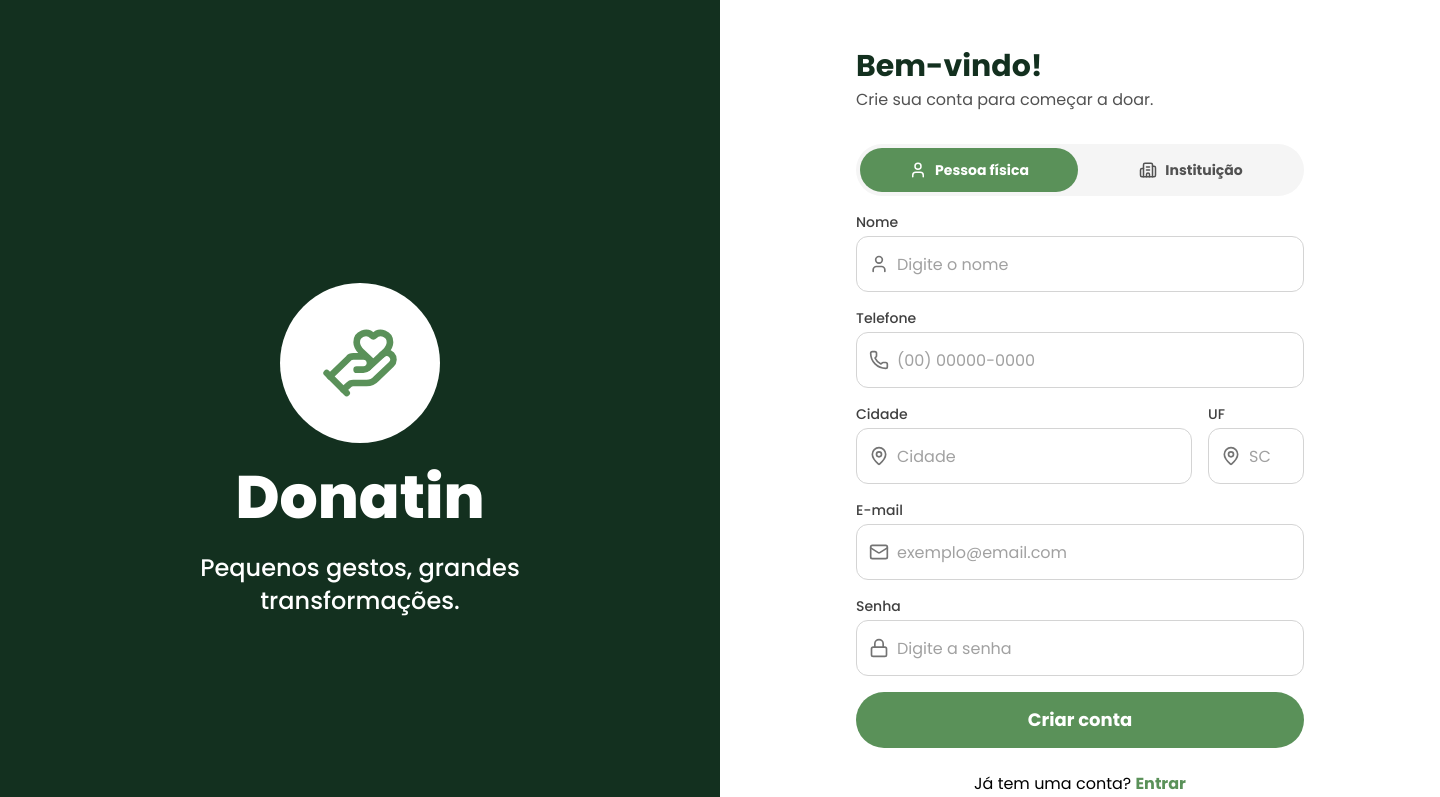
Test: RegisterPage › senha sem maiúscula ou caractere especial é recusada
Type "  Maria Souza " into the field labelled "Nome" at (1094, 264), box [897,237,1291,291]
Type "47999990000" into the field labelled "Telefone" at (1094, 360), box [897,333,1291,387]
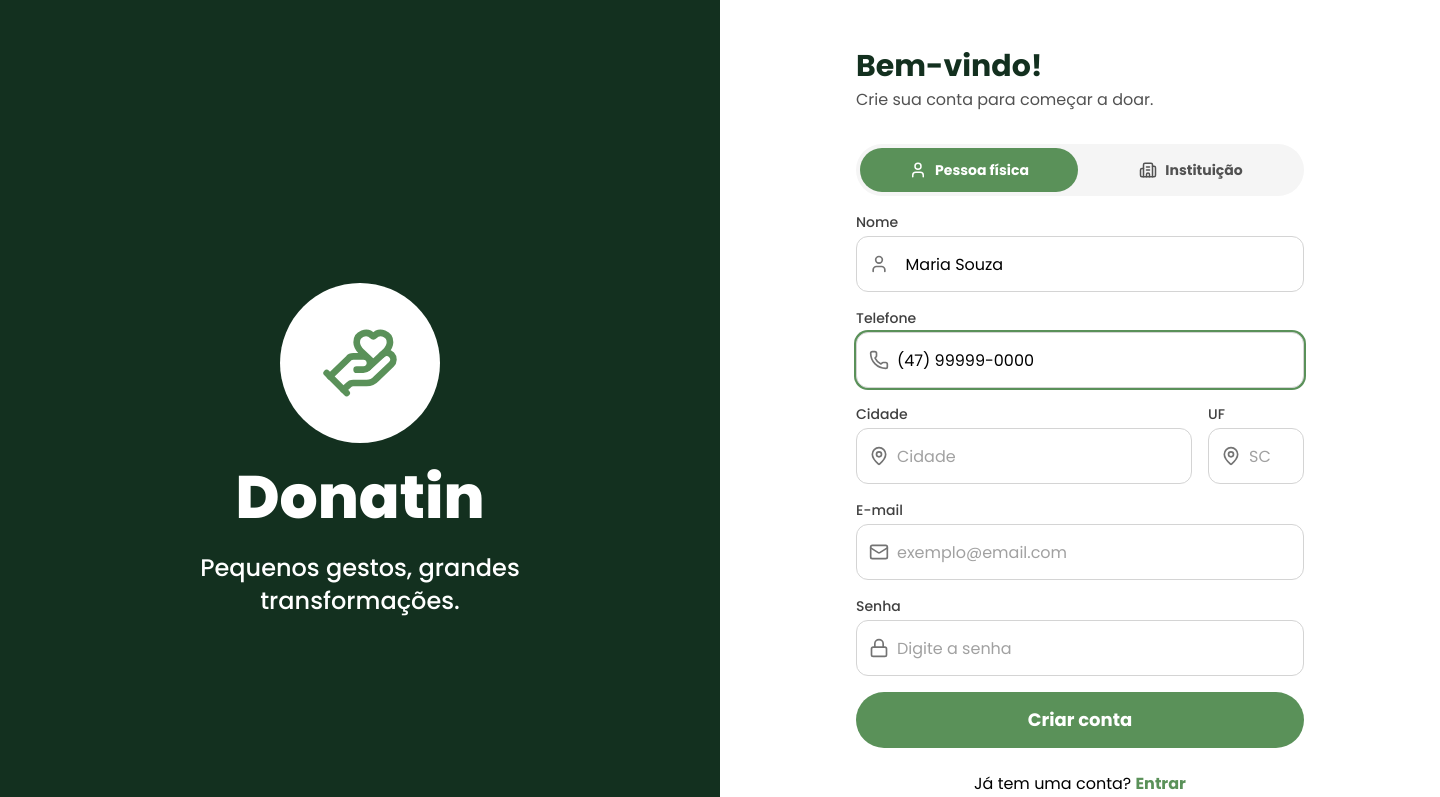
Type "Joinville" into the field labelled "Cidade" at (1038, 456), box [897,429,1179,483]
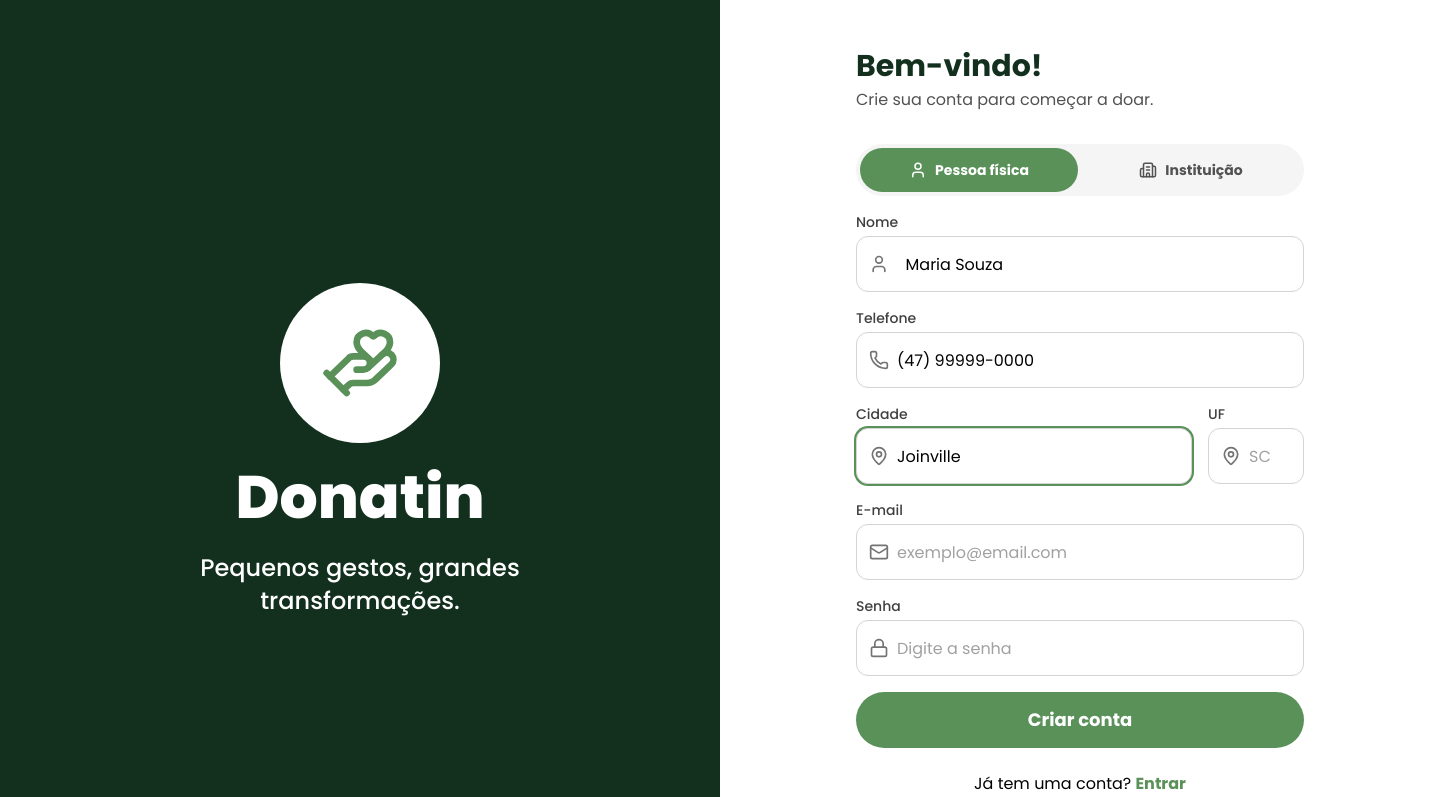
Type "sc" into the field labelled "UF" at (1270, 456), box [1249,429,1291,483]
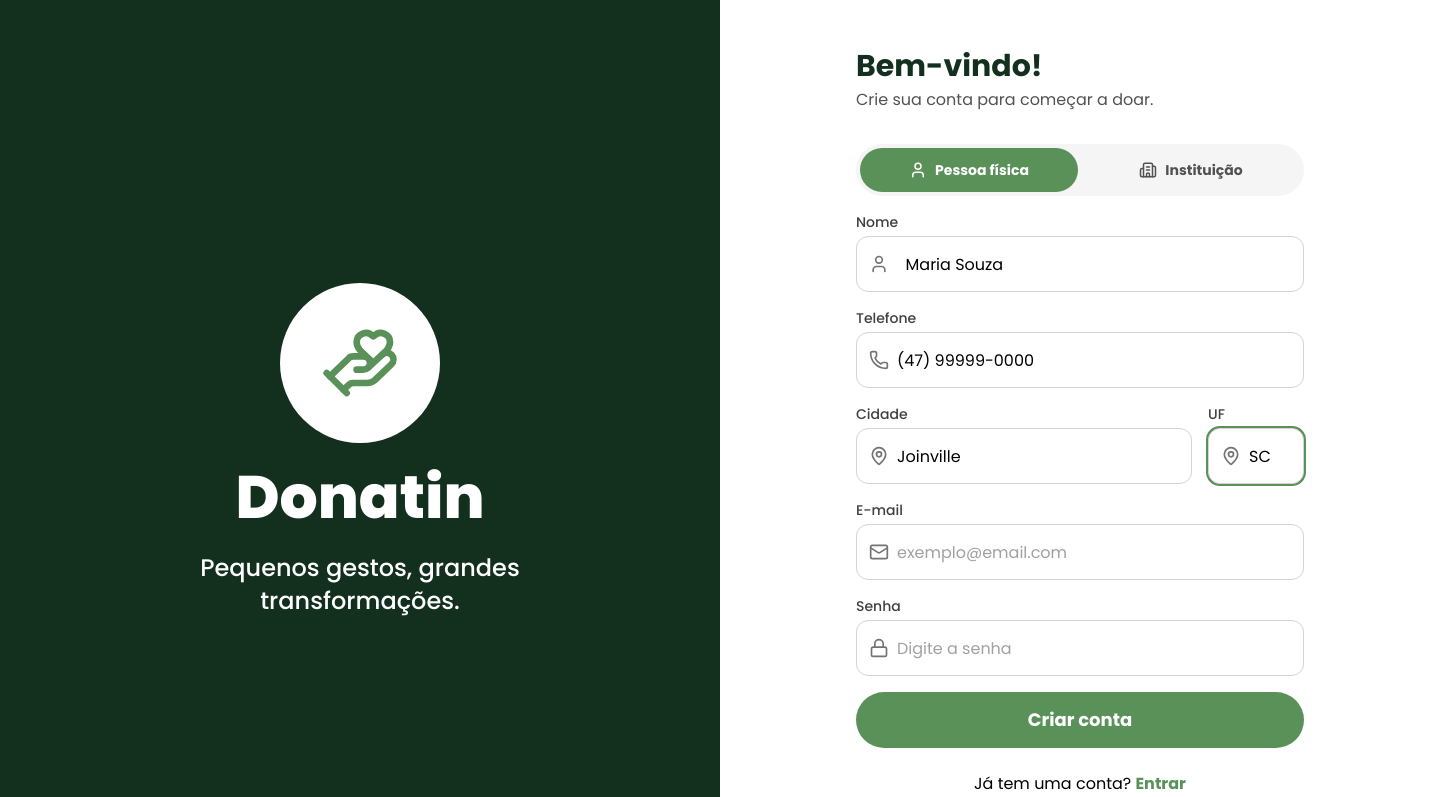
Type "maria@email.com" into the field labelled "E-mail" at (1094, 552), box [897,525,1291,579]
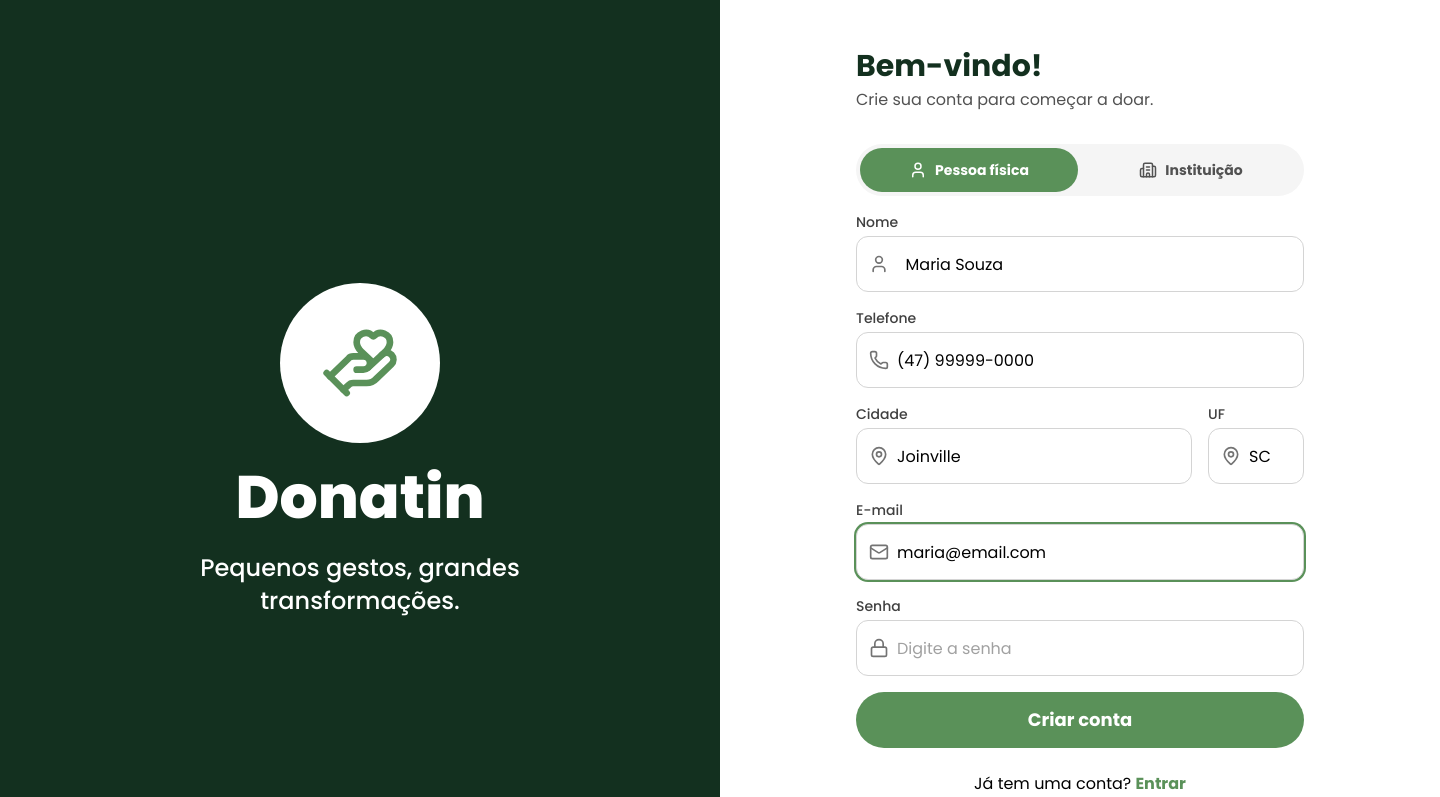
Type "Senha@123" into the password field labelled "Senha" at (1094, 648), box [897,621,1291,675]
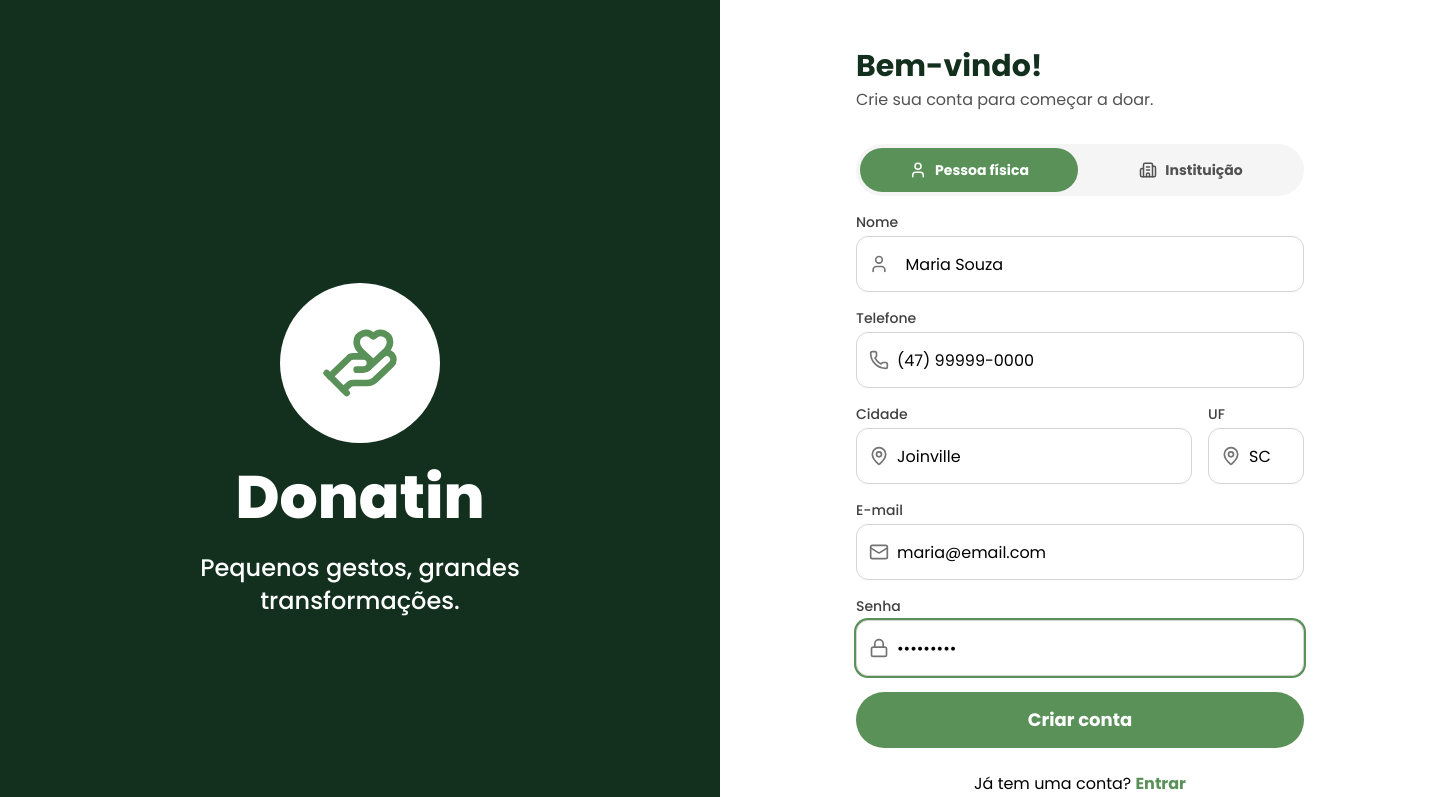
Type "senhafraca" into the password field labelled "Senha" at (1094, 648), box [897,621,1291,675]
Click the button "Criar conta" at (1080, 720), box [856,692,1304,748]
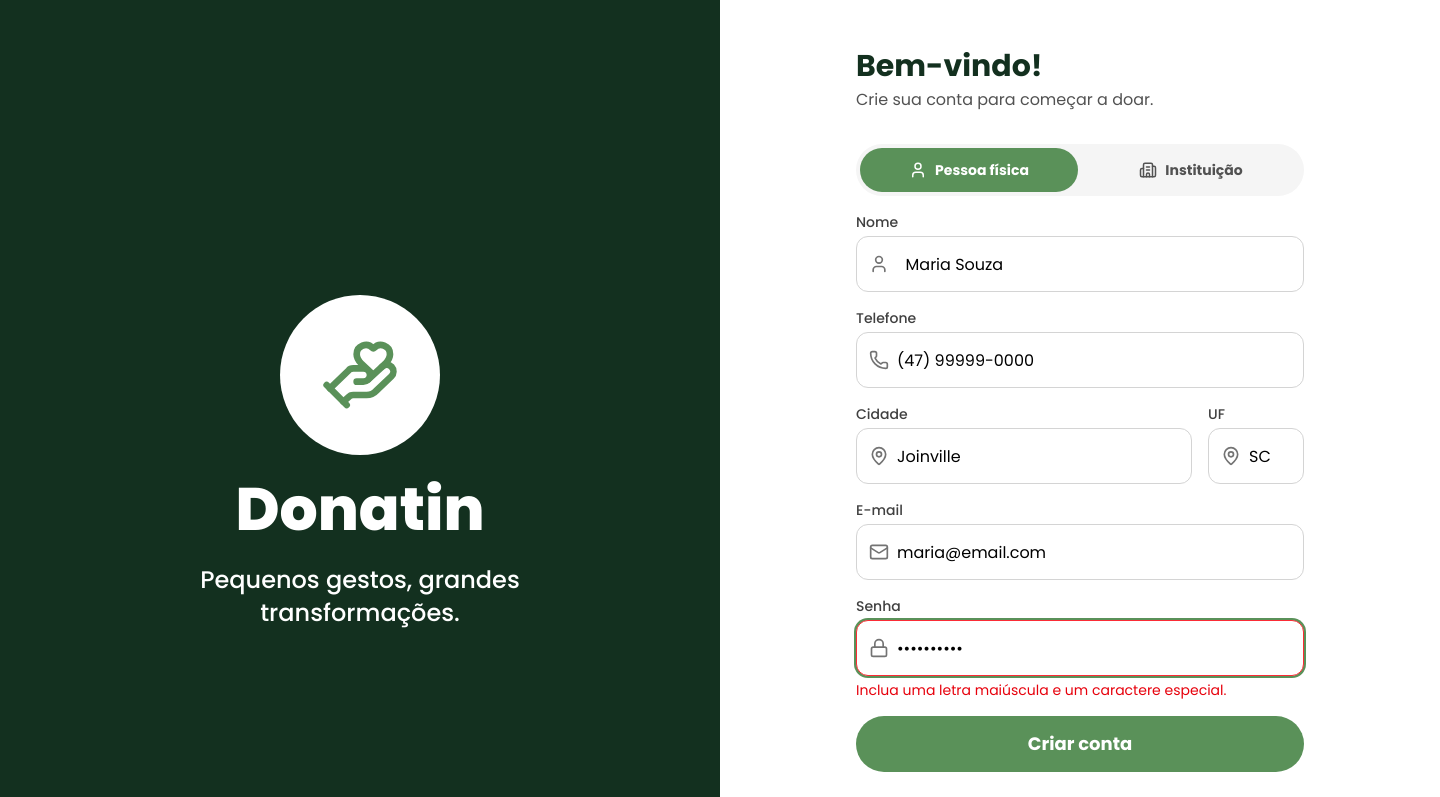
Now the text "Inclua uma letra maiúscula e um caractere especial." is shown, box [856,680,1226,700]
